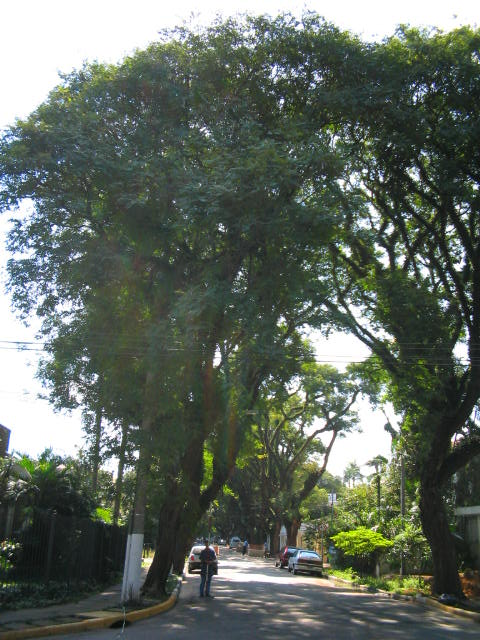crown: (2, 90, 323, 473)
stem: (410, 495, 471, 600), (145, 501, 183, 596)
stick: (201, 509, 214, 596)
tree: (1, 8, 325, 604), (318, 89, 480, 602)
